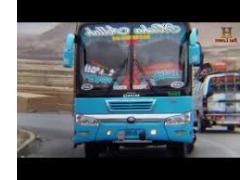bus: (64, 17, 204, 154)
